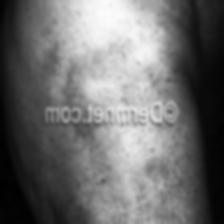Potentially Malignant Skin Tumors: (44, 29, 165, 109)
